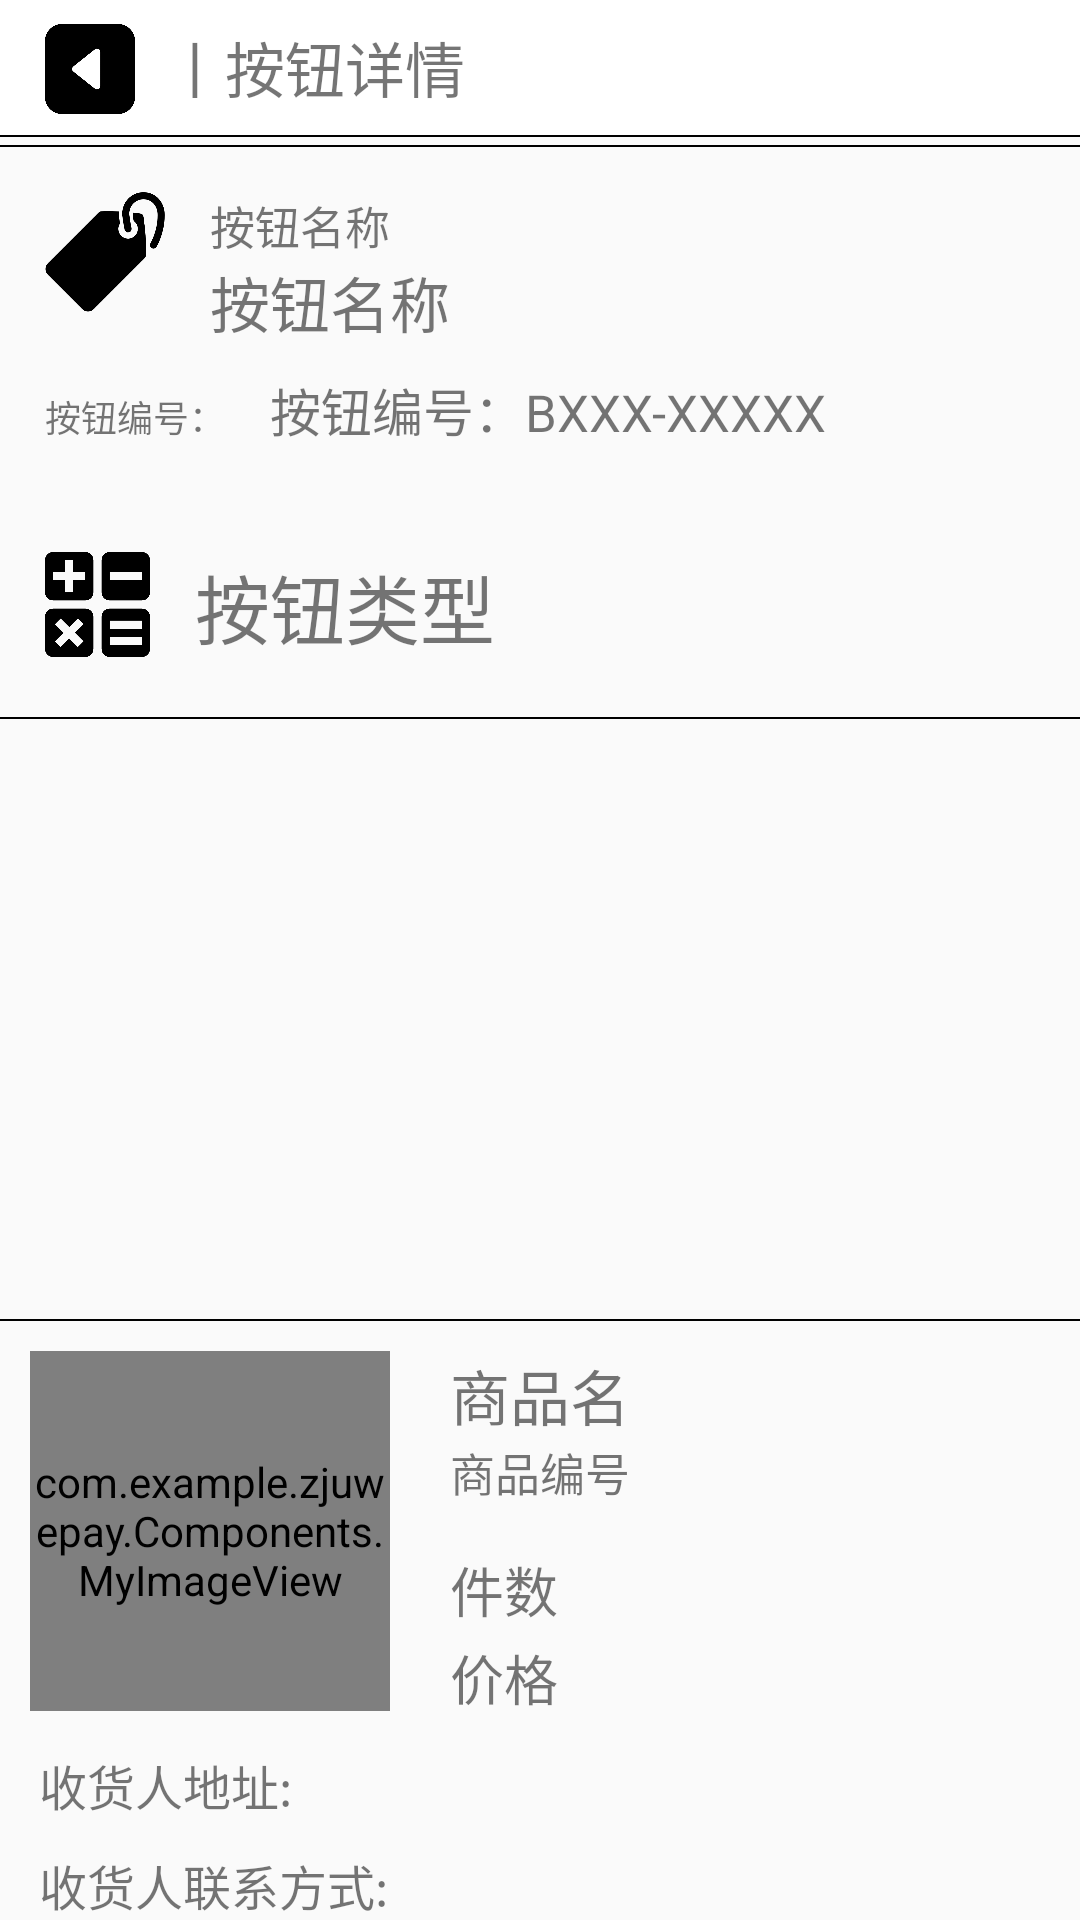

Icons on this 1080 × 1920 Android screen, each with the point to tap as (x,y):
back: (90,69)
tag: (105,252)
